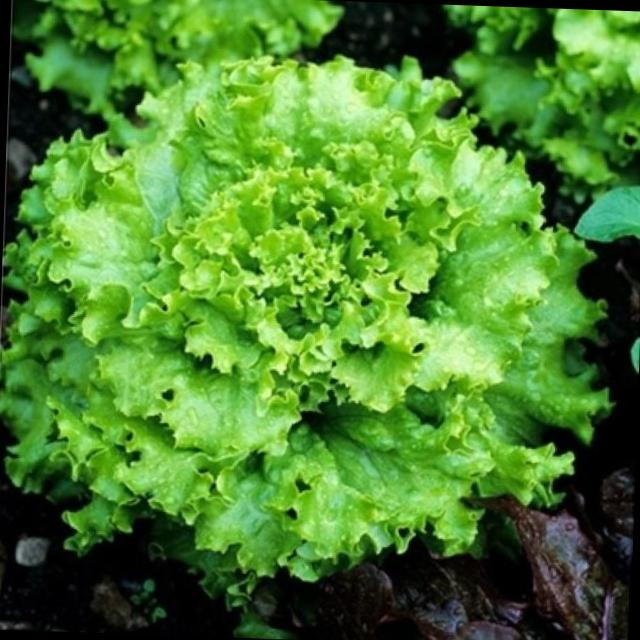Lettuce-Ready-to-Harvest: (2, 58, 608, 606), (25, 0, 341, 113), (454, 7, 640, 195)
